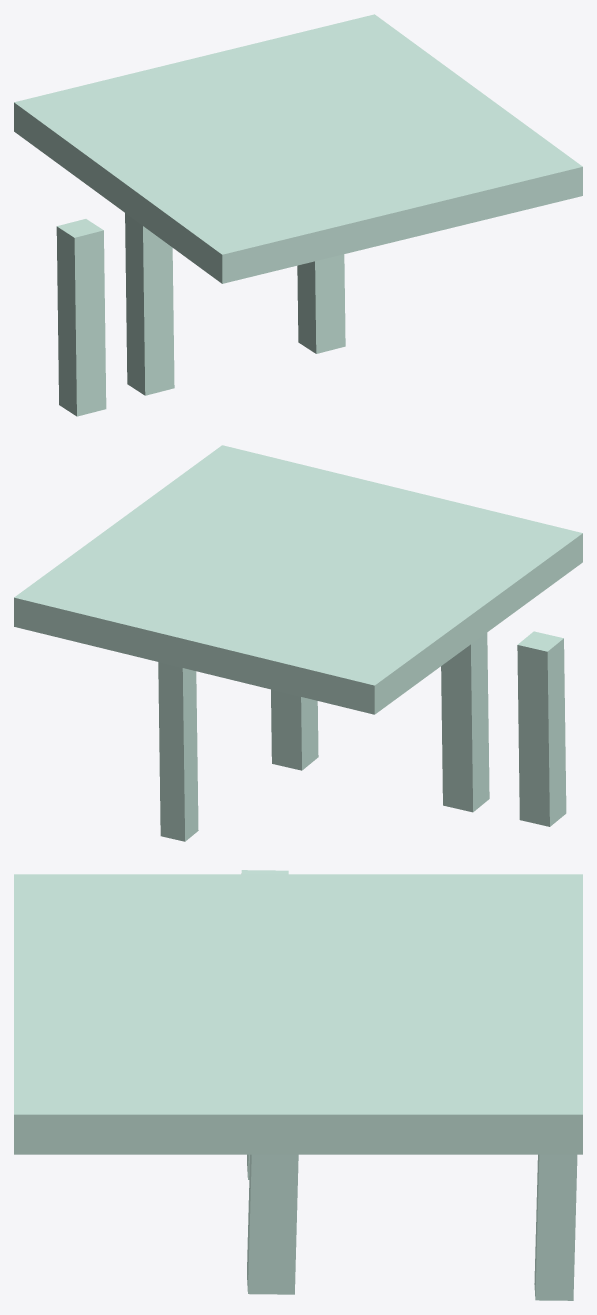
The picture shows the model from 3 angles, top to bottom: view 1: azimuth 30°, elevation 25°; view 2: azimuth 150°, elevation 25°; view 3: azimuth 270°, elevation 25°; orthographic projection. The views are drawn at different scales.
Parts seen in each view (by area): view 1: Renderer Node; view 2: Renderer Node; view 3: Renderer Node.
Boxes of the visible parts, x1,y1,x2,y2 form: Renderer Node: [14, 14, 582, 416]; Renderer Node: [14, 445, 582, 841]; Renderer Node: [14, 870, 582, 1300].
Bounding box in the file's own units: 1.79 × 0.8279 × 1.52.
